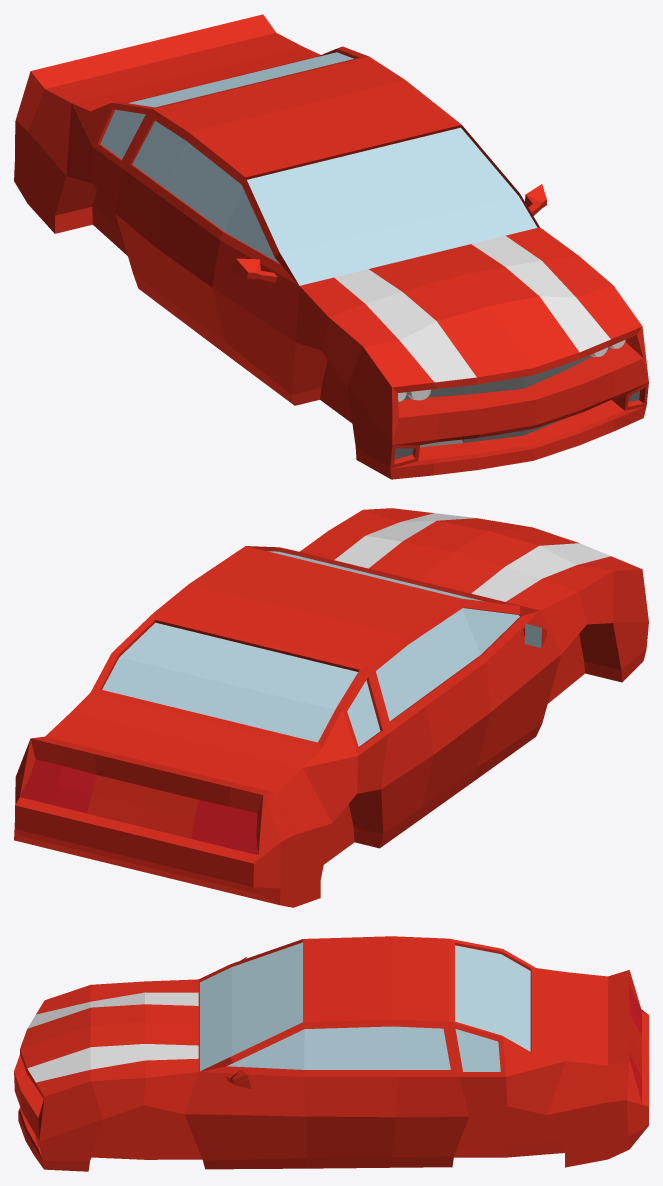
File: Car.fbx
3 renders of one model, top to bottom at view 1: azimuth 30°, elevation 25°; view 2: azimuth 150°, elevation 25°; view 3: azimuth 270°, elevation 25°, orthographic. The views are drawn at different scales.
Visible parts, largest first — view 1: RedCar; view 2: RedCar; view 3: RedCar.
Boxes of the visible parts, x1,y1,x2,y2 form: RedCar: (14, 14, 648, 479); RedCar: (14, 508, 648, 907); RedCar: (14, 936, 648, 1171).
Bounding box in the file's own units: 1.06 × 0.5966 × 2.37.
